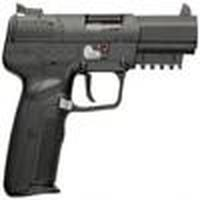gun: (2, 1, 193, 200)
